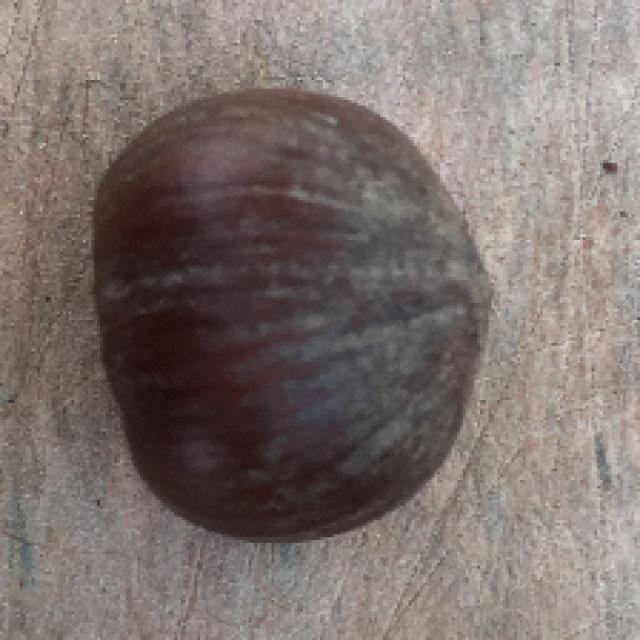damagedHazelnut: (84, 77, 497, 544)
